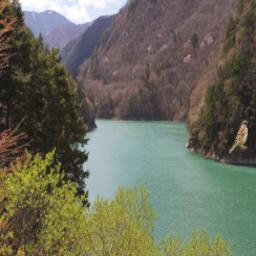Sparrow: (229, 120, 248, 153)
